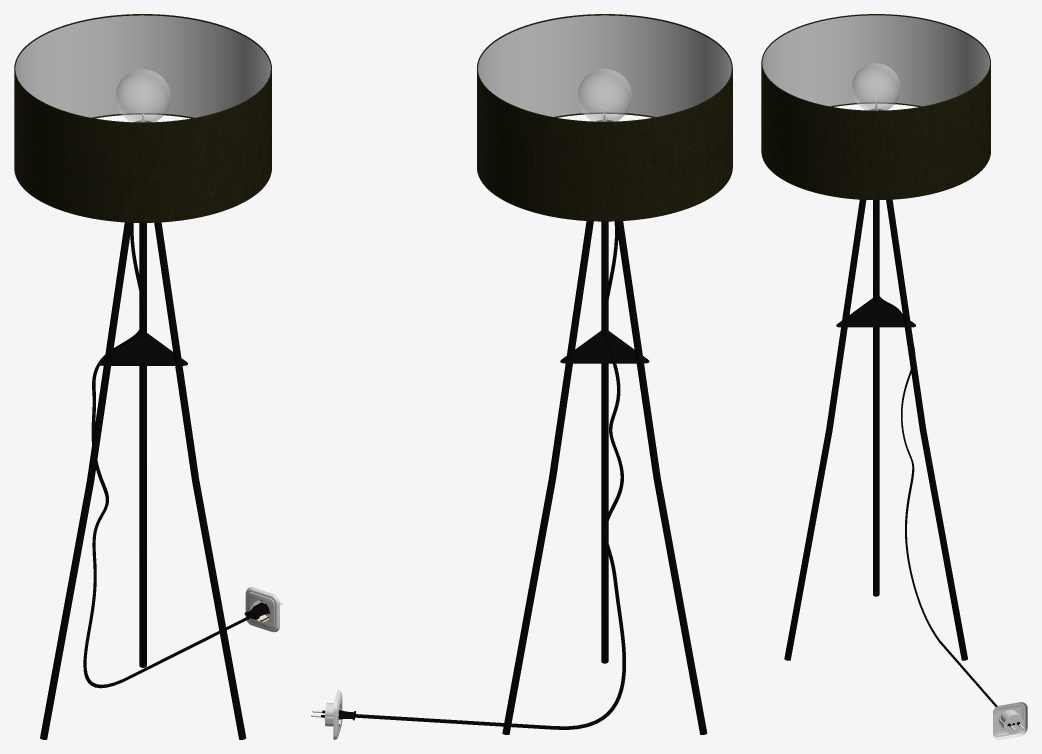
The model's file is light-floor-drum.glb.
The picture shows the model from 3 angles, left to right: view 1: azimuth 30°, elevation 25°; view 2: azimuth 150°, elevation 25°; view 3: azimuth 270°, elevation 25°; orthographic projection. The views are drawn at different scales.
Visible parts, largest first — view 1: Lamp-Shade_0, Legs_2, Cable_4, LightBulb_5, Triangle-Leg-Connector_3, Electrical-Plug_6; view 2: Lamp-Shade_0, Legs_2, Cable_4, LightBulb_5, Triangle-Leg-Connector_3; view 3: Lamp-Shade_0, Legs_2, LightBulb_5, Cable_4, Triangle-Leg-Connector_3, Electrical-Plug_6.
Part boxes in pixels (x1,y1,x2,y2): Lamp-Shade_0: (14, 14, 271, 222); Legs_2: (40, 222, 246, 739); Cable_4: (83, 222, 282, 688); LightBulb_5: (115, 69, 170, 122); Triangle-Leg-Connector_3: (98, 333, 187, 365); Electrical-Plug_6: (245, 587, 279, 632); Lamp-Shade_0: (477, 14, 732, 221); Legs_2: (502, 221, 707, 734); Cable_4: (311, 221, 625, 729); LightBulb_5: (577, 69, 632, 121); Triangle-Leg-Connector_3: (560, 331, 649, 363); Lamp-Shade_0: (761, 14, 990, 200); Legs_2: (784, 199, 967, 660); LightBulb_5: (851, 63, 900, 110); Cable_4: (873, 200, 1023, 730); Triangle-Leg-Connector_3: (836, 298, 915, 327); Electrical-Plug_6: (993, 702, 1027, 739).
Size of the model in its own units: 0.8061 by 1.55 by 0.6351.
Materials: 11 (1 with a texture image).
